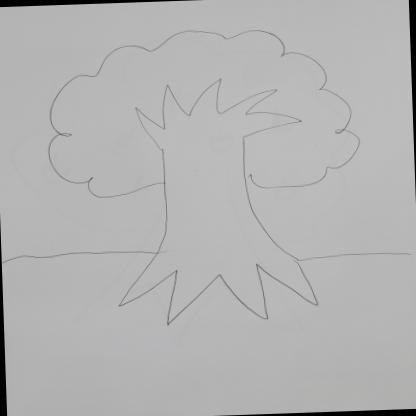branch_sharp: (127, 76, 307, 156)
crown_cloud: (34, 17, 364, 202)
root_upside: (116, 234, 324, 328)
trunk_straight: (154, 186, 270, 253)
